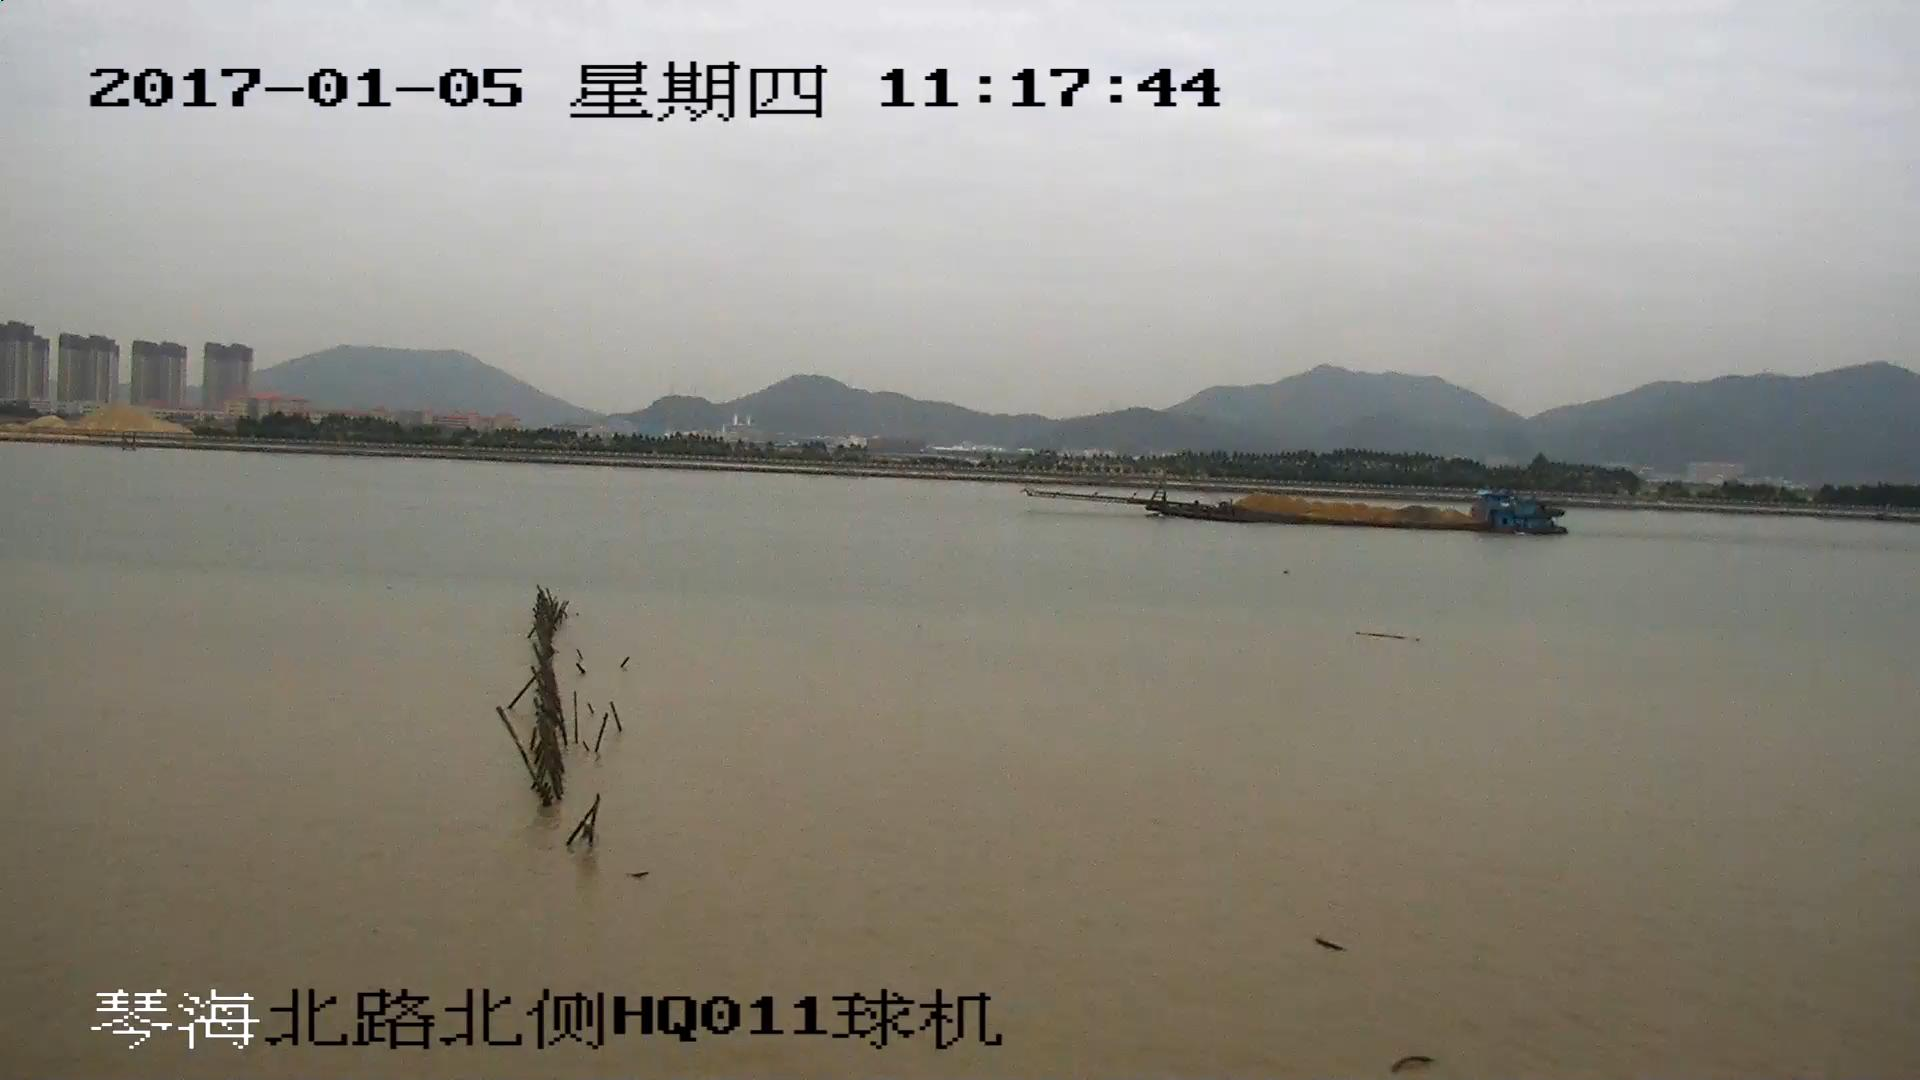ore carrier: (1048, 466, 1560, 534)
